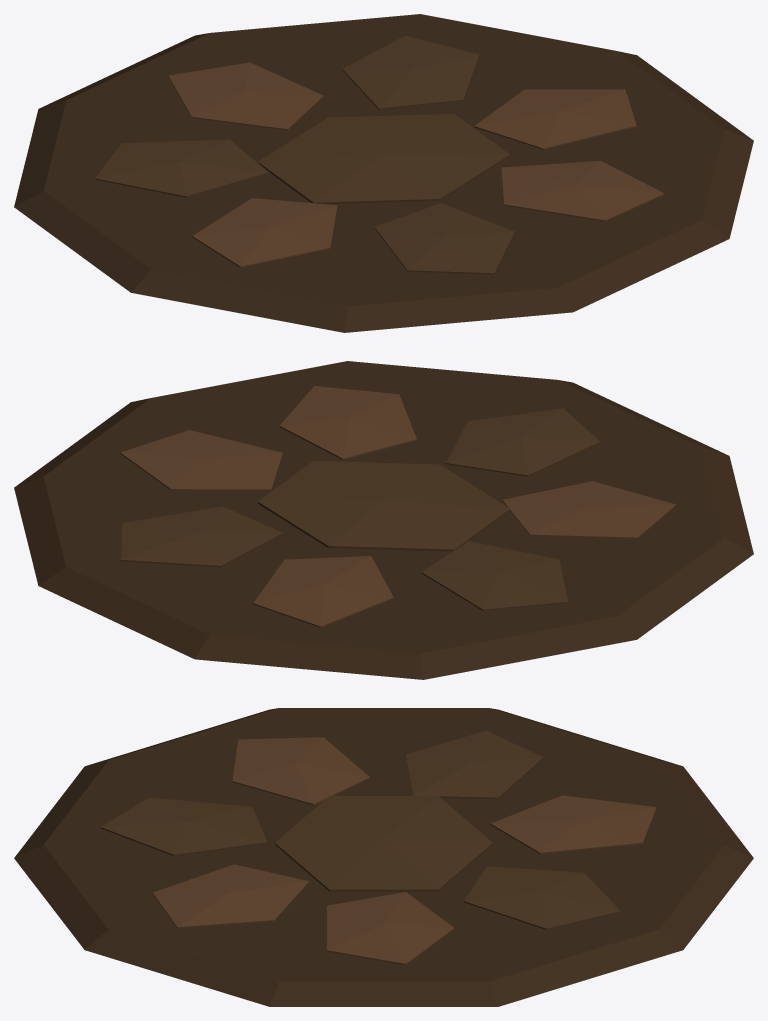
Rendered from trap_fresh_dirt_decal.glb.
3 renders of one model, top to bottom at view 1: azimuth 30°, elevation 25°; view 2: azimuth 150°, elevation 25°; view 3: azimuth 270°, elevation 25°, orthographic. The views are drawn at different scales.
Parts seen in each view (by area): view 1: Dirt; view 2: Dirt; view 3: Dirt.
Part boxes in pixels (x1,y1,x2,y2): Dirt: [14, 14, 753, 332]; Dirt: [14, 361, 753, 679]; Dirt: [14, 708, 753, 1006].
Bounding box in the file's own units: 0.9511 × 0.03 × 1.
